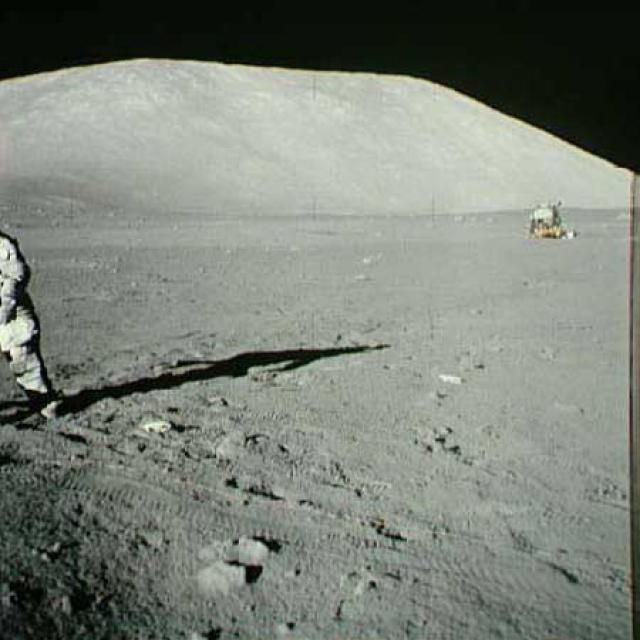artifact: (522, 200, 579, 244)
rock: (194, 538, 278, 567), (197, 563, 247, 593), (434, 371, 467, 390)
